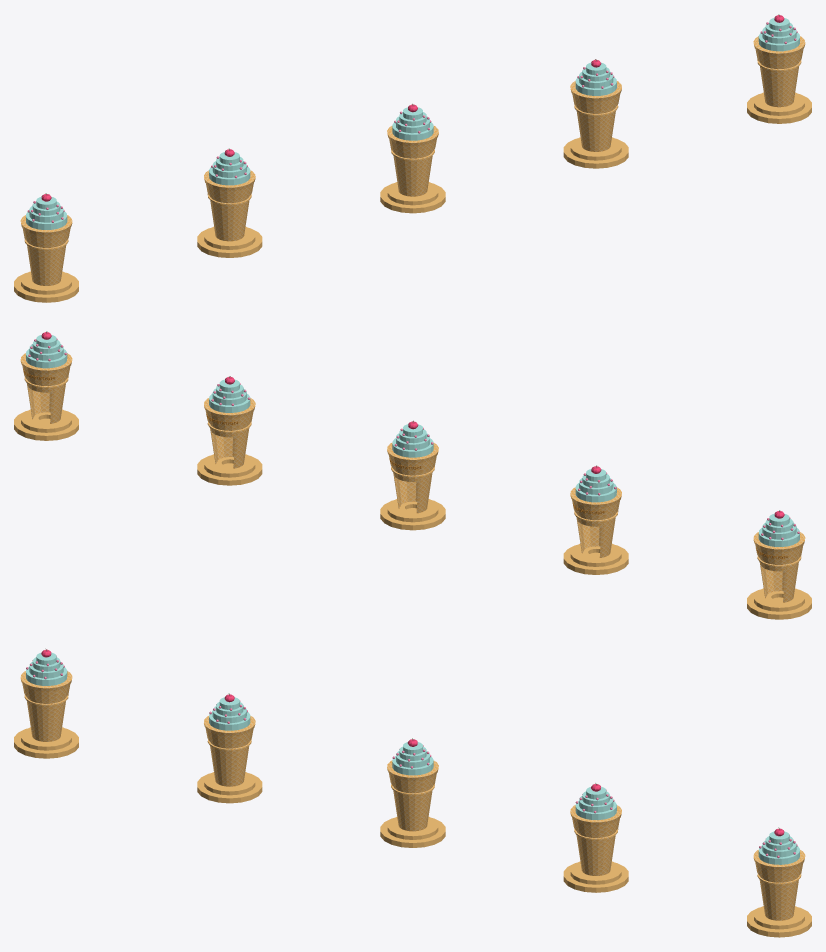
File: Teletransport.fbx
3 views of the same model, one above another, from view 1: azimuth 30°, elevation 25°; view 2: azimuth 150°, elevation 25°; view 3: azimuth 330°, elevation 25° (orthographic).
Visible parts, largest first — view 1: D2_TELETRANSPORTATION_POD.001; view 2: D2_TELETRANSPORTATION_POD.001; view 3: D2_TELETRANSPORTATION_POD.001.
Part boxes in pixels (<box>): D2_TELETRANSPORTATION_POD.001: <box>14,14,811,302</box>; D2_TELETRANSPORTATION_POD.001: <box>14,331,811,619</box>; D2_TELETRANSPORTATION_POD.001: <box>14,648,811,937</box>.
Bounding box in the file's own units: 4652 × 540 × 332.
7 materials, 1 textured.
